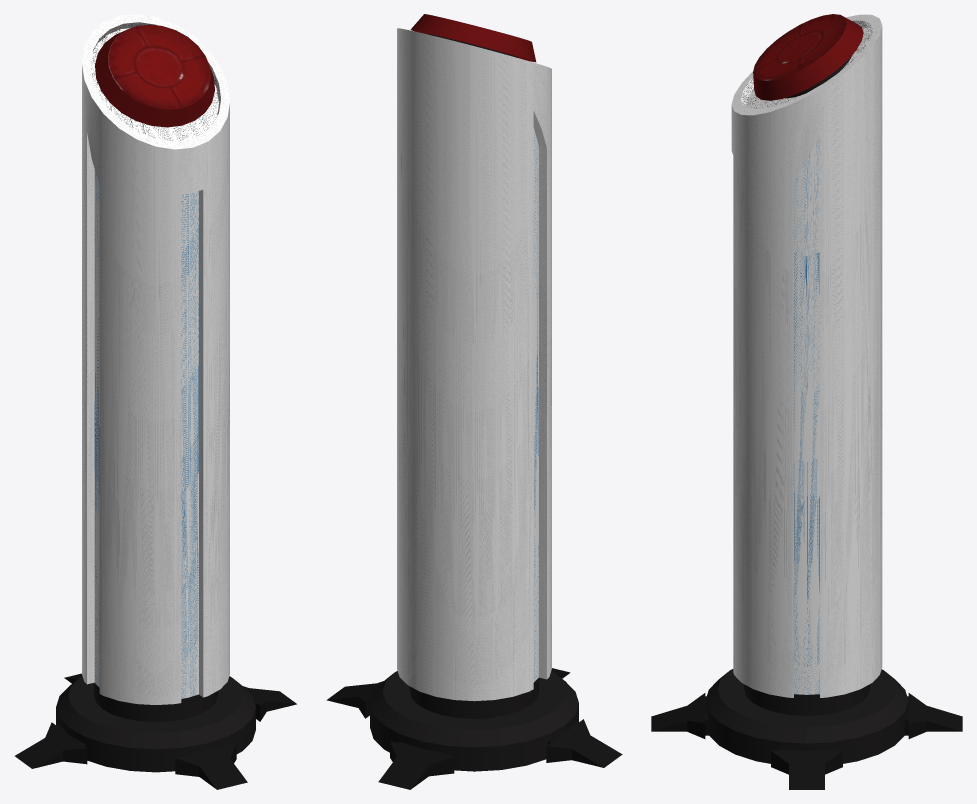
File: Switch.dae
3 renders of one model, left to right at view 1: azimuth 30°, elevation 25°; view 2: azimuth 150°, elevation 25°; view 3: azimuth 270°, elevation 25°, orthographic. The views are drawn at different scales.
Visible parts, largest first — view 1: group_5 (×7), group_1 (×2), group_0, group_2, group_4; view 2: group_5 (×5), group_1, group_3, group_2, group_4; view 3: group_5 (×6), group_1 (×2), group_4, group_0, group_3.
Boxes of the visible parts, x1,y1,x2,y2 form: group_5 (×7): (56,14,255,772); group_1 (×2): (95,24,214,127); group_0: (175,743,247,789); group_2: (15,722,87,768); group_4: (243,686,296,721); group_5 (×5): (370,28,578,771); group_1: (410,14,536,62); group_3: (378,741,454,789); group_2: (546,719,622,767); group_4: (326,681,383,718); group_5 (×6): (705,14,908,763); group_1 (×2): (753,14,863,100); group_4: (771,749,842,789); group_0: (651,693,709,738); group_3: (904,693,962,738).
Size of the model in its own units: 17.25 by 17.25 by 42.84.
